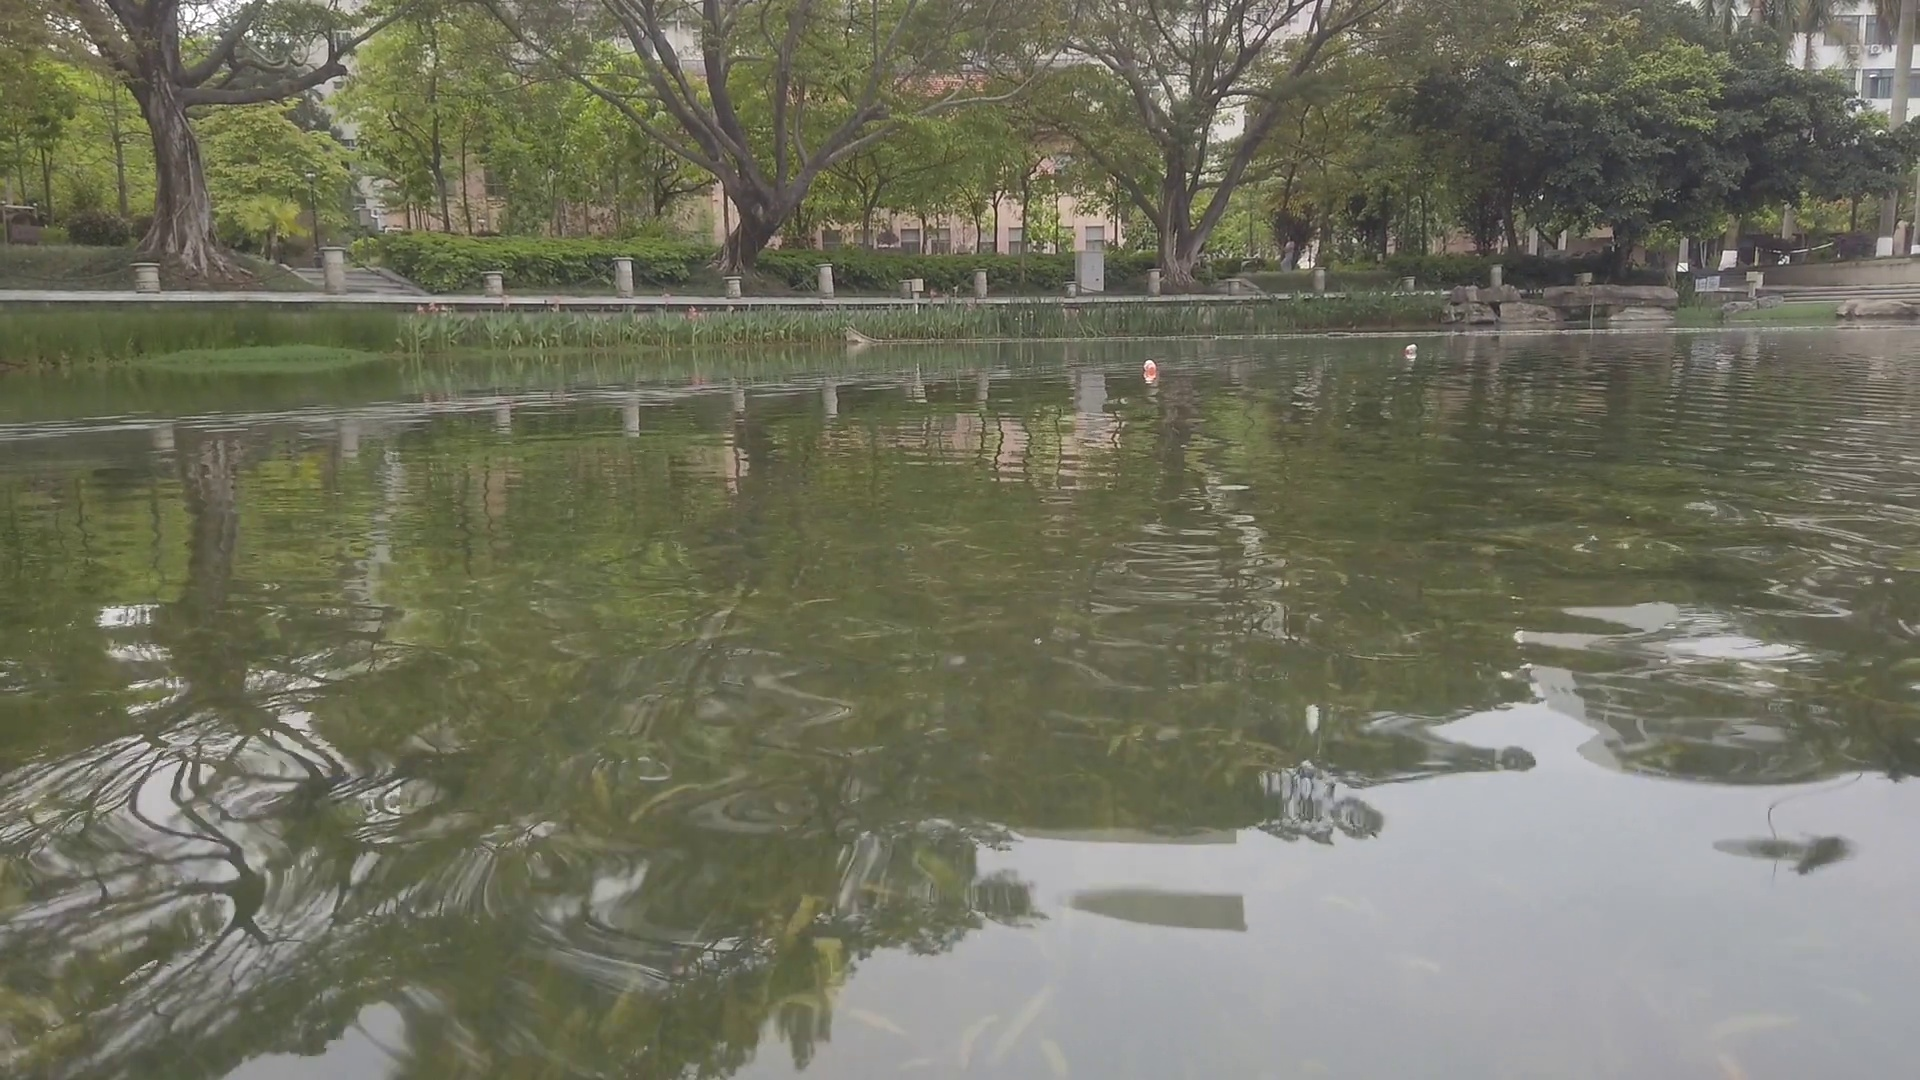bottle: (1142, 357, 1158, 375), (1403, 343, 1418, 355)
